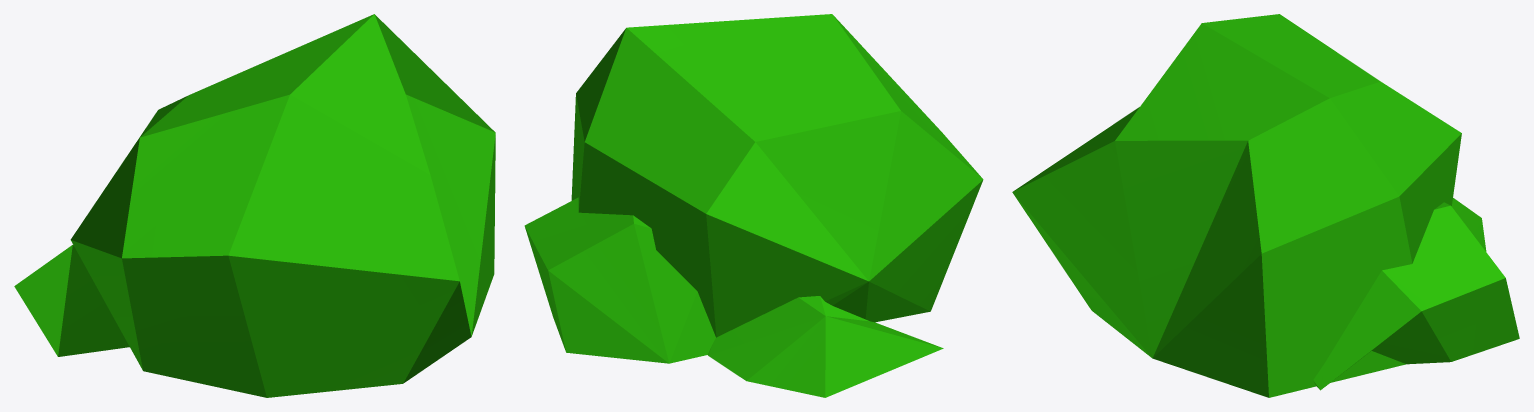
File: Bush1.FBX
3 views of the same model, side by side, from view 1: azimuth 30°, elevation 25°; view 2: azimuth 150°, elevation 25°; view 3: azimuth 270°, elevation 25° (orthographic). The views are drawn at different scales.
Parts seen in each view (by area): view 1: Bush1; view 2: Bush1; view 3: Bush1.
Boxes of the visible parts, box(x1,y1,x2,y2) form: Bush1: box(14, 14, 495, 397); Bush1: box(524, 14, 983, 397); Bush1: box(1012, 14, 1519, 397).
Bounding box in the file's own units: 3314 × 2016 × 3571.
